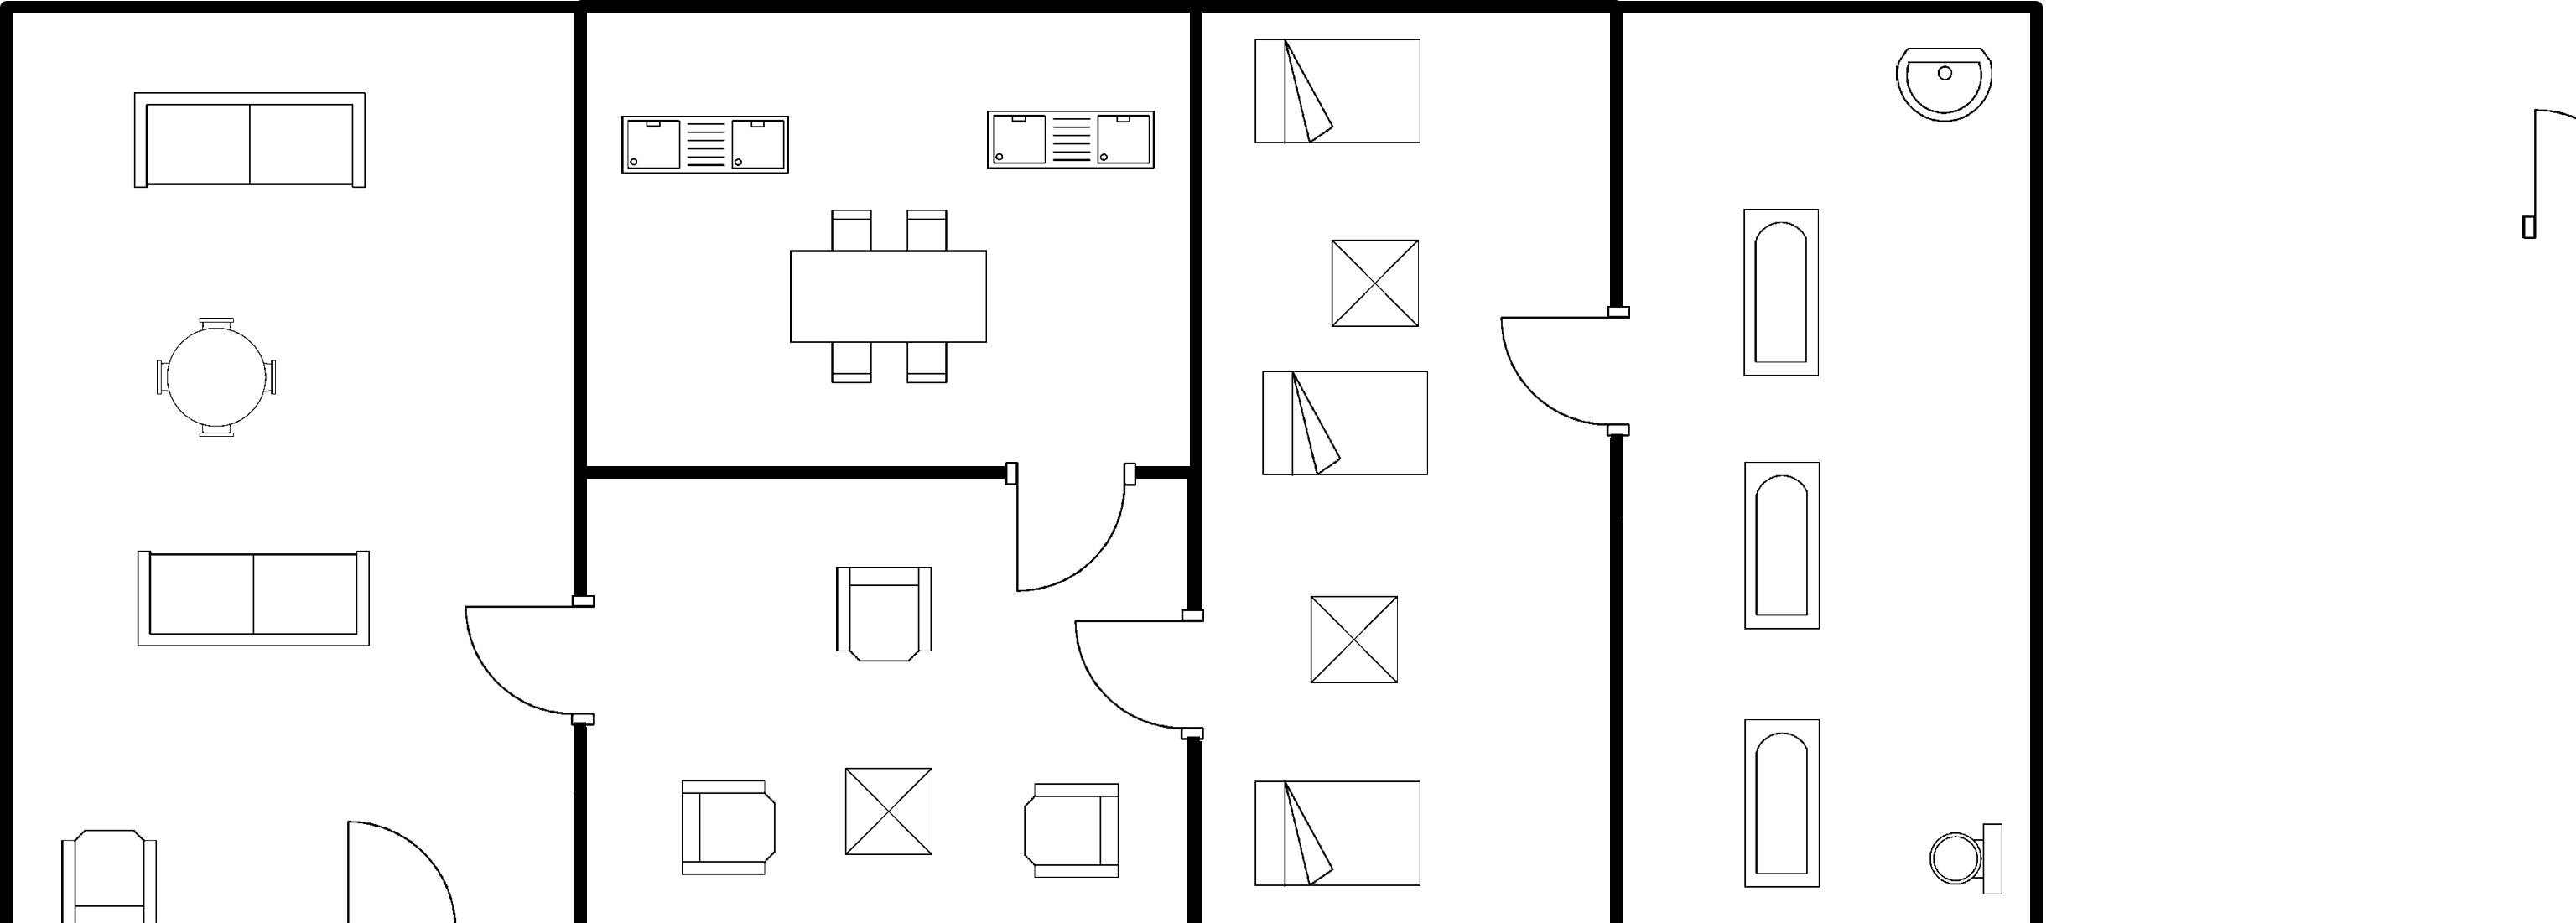armchair: (1004, 770, 1142, 902), (819, 550, 958, 679), (665, 765, 793, 899), (40, 817, 151, 923)
bed: (1244, 25, 1444, 169), (1243, 765, 1440, 908), (1246, 360, 1451, 490)
coffee_table: (828, 754, 955, 871), (1322, 220, 1434, 345), (1296, 583, 1410, 693)
dining_table: (767, 193, 1004, 399)
large_sink: (1919, 806, 2021, 915)
large_sofa: (119, 536, 383, 667), (117, 79, 380, 210)
round_table: (139, 297, 290, 457)
small_sink: (1883, 36, 2004, 133)
tub: (1729, 190, 1833, 394), (1727, 446, 1833, 647), (1729, 708, 1833, 908)
twin_sink: (972, 101, 1173, 190), (605, 100, 799, 189)
